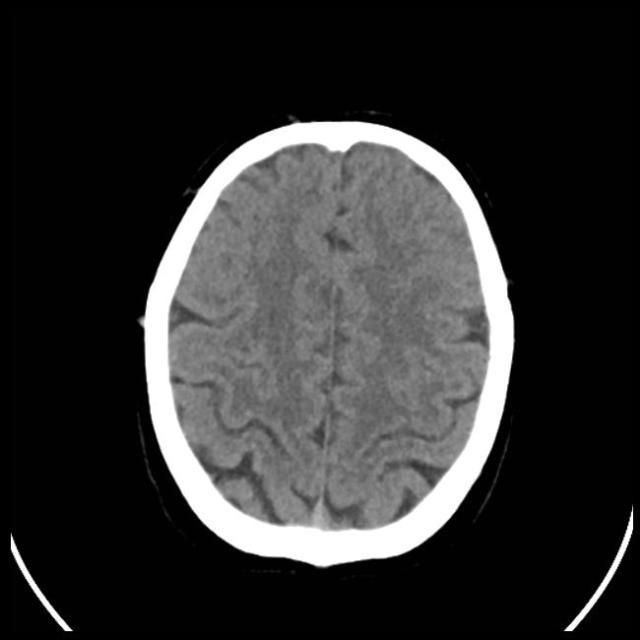lesion: (137, 117, 518, 564)
